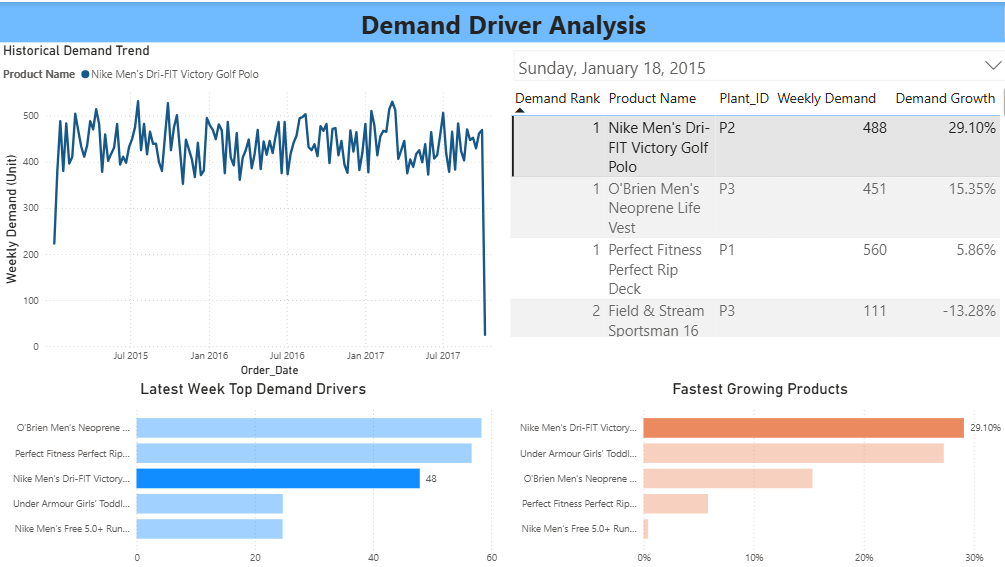

The dashboard page shown, as its layout file describes it:
{"tool":"powerbi","page":{"name":"Demand Driver","canvas":[1280,720],"ordinal":1},"visuals":[{"type":"textbox","box":[0,0,1279.5,51.5],"z":0},{"type":"clusteredBarChart","title":"Latest Week Top Demand Drivers","fields":{"Category":["top_product_driver_weekly.Product Name"],"Y":["Avg(top_product_driver_weekly.Demand_Contribution_Pct)"]},"box":[0,477,640.5,242.3],"z":1000},{"type":"tableEx","fields":{"Values":["Sum(top_product_driver_weekly.Demand_Rank)","top_product_driver_weekly.Product Name","top_product_driver_weekly.Plant_ID","Sum(top_product_driver_weekly.Weekly_Demand)","Sum(top_product_driver_weekly.Demand_Growth)"]},"box":[638.7,102,640.6,325],"z":2000},{"type":"slicer","title":"Data Selection","fields":{"Values":["top_product_driver_weekly.Order_Date"]},"box":[639,51.5,640.5,50],"z":3000},{"type":"clusteredBarChart","title":"Fastest Growing Products","fields":{"Category":["top_product_driver_weekly.Product Name"],"Y":["Sum(top_product_driver_weekly.Demand_Growth)"]},"box":[639,477,640.5,242.3],"z":4000},{"type":"lineChart","title":"Historical Demand Trend","fields":{"Category":["top_product_driver_weekly.Order_Date"],"Y":["Sum(top_product_driver_weekly.Weekly_Demand)"],"Series":["top_product_driver_weekly.Product Name"]},"box":[0,51.5,639,425.5],"z":5000}]}

Visuals, with their boxes in screenshot pixels (x1, y1, x2, y2), scaled from the page's 1280x720 canvas onto the 1005x567 screenshot:
textbox: Rect(0, 0, 1004, 41)
"Latest Week Top Demand Drivers" clusteredBarChart: Rect(0, 376, 503, 566)
tableEx - Sum(top_product_driver_weekly.Demand_Rank) x top_product_driver_weekly.Product Name: Rect(501, 80, 1004, 336)
"Data Selection" slicer: Rect(502, 41, 1004, 80)
"Fastest Growing Products" clusteredBarChart: Rect(502, 376, 1004, 566)
"Historical Demand Trend" lineChart: Rect(0, 41, 502, 376)
